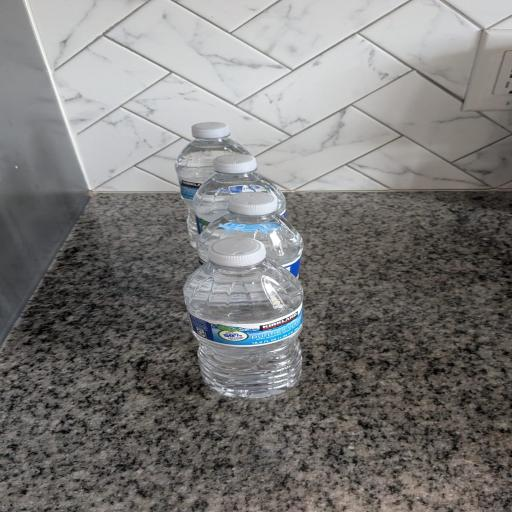waterbottle: (184, 239, 302, 397), (176, 123, 248, 247), (197, 192, 303, 276), (193, 155, 285, 233)
